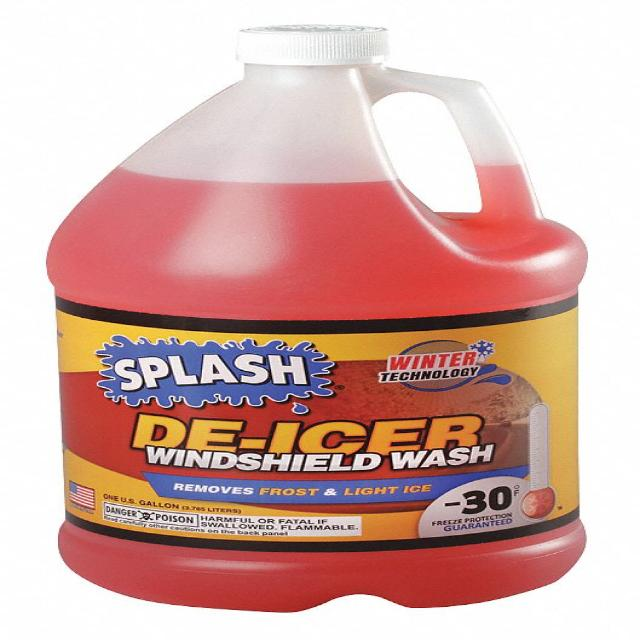winwinshield_washer: (44, 15, 602, 615)
